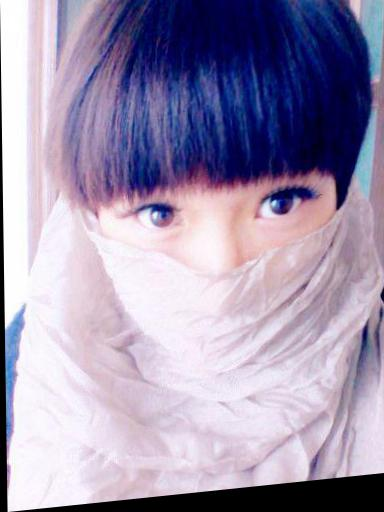WRONG: (94, 134, 342, 399)
